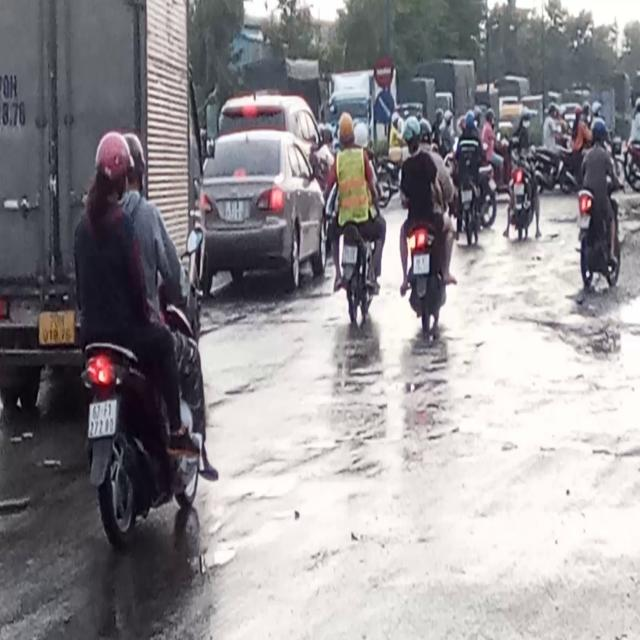bien_trang: (89, 402, 122, 446)
bien_vang: (35, 308, 75, 349)
